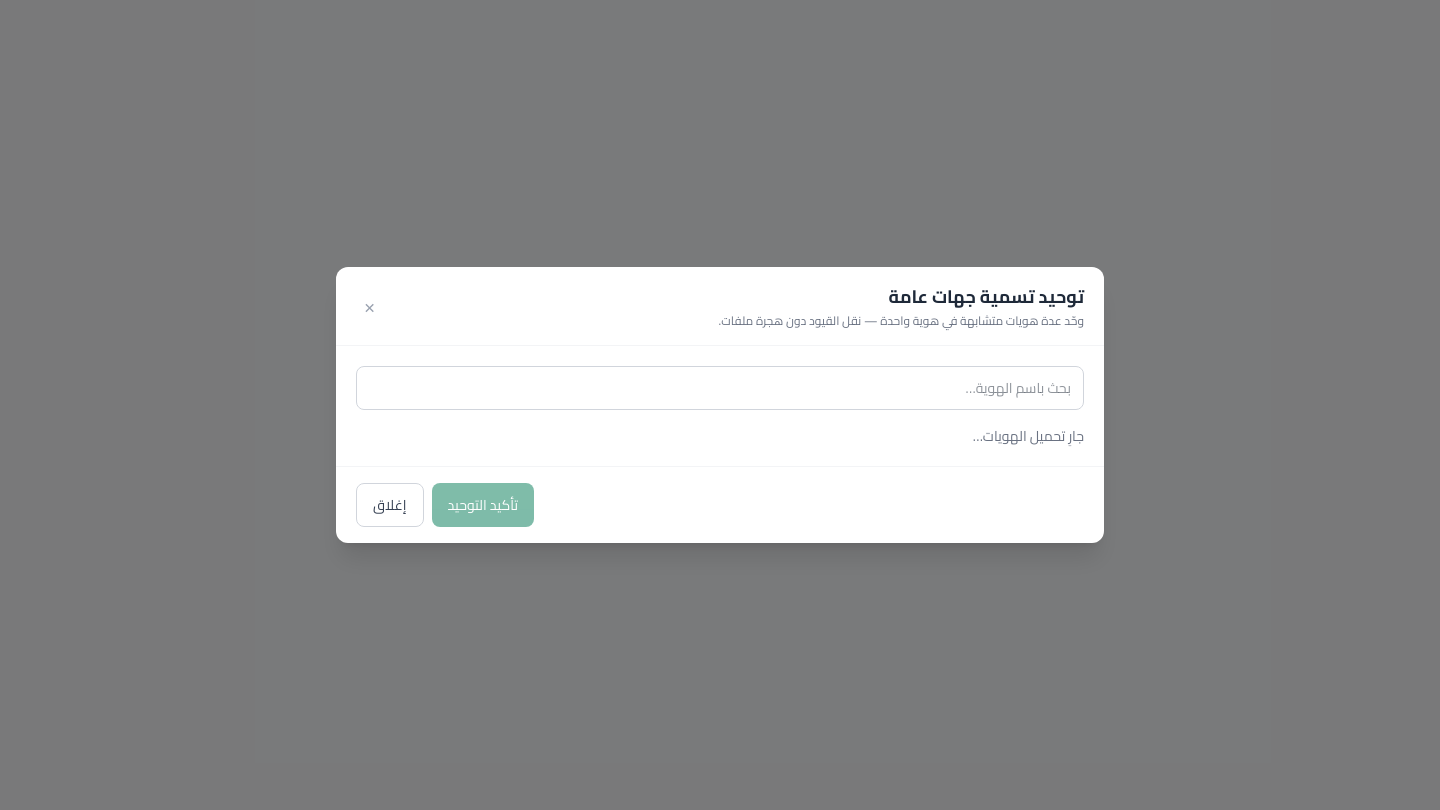
Scenario: UnifyNamesModal › يتجاهل نتيجة البحث المتأخرة ويعرض نتائج أحدث بحث فقط عند سباق الطلبات
Type "و" into the field named "بحث باسم الجهة".
click(720, 388); type("و")  # box [356,366,1084,410]
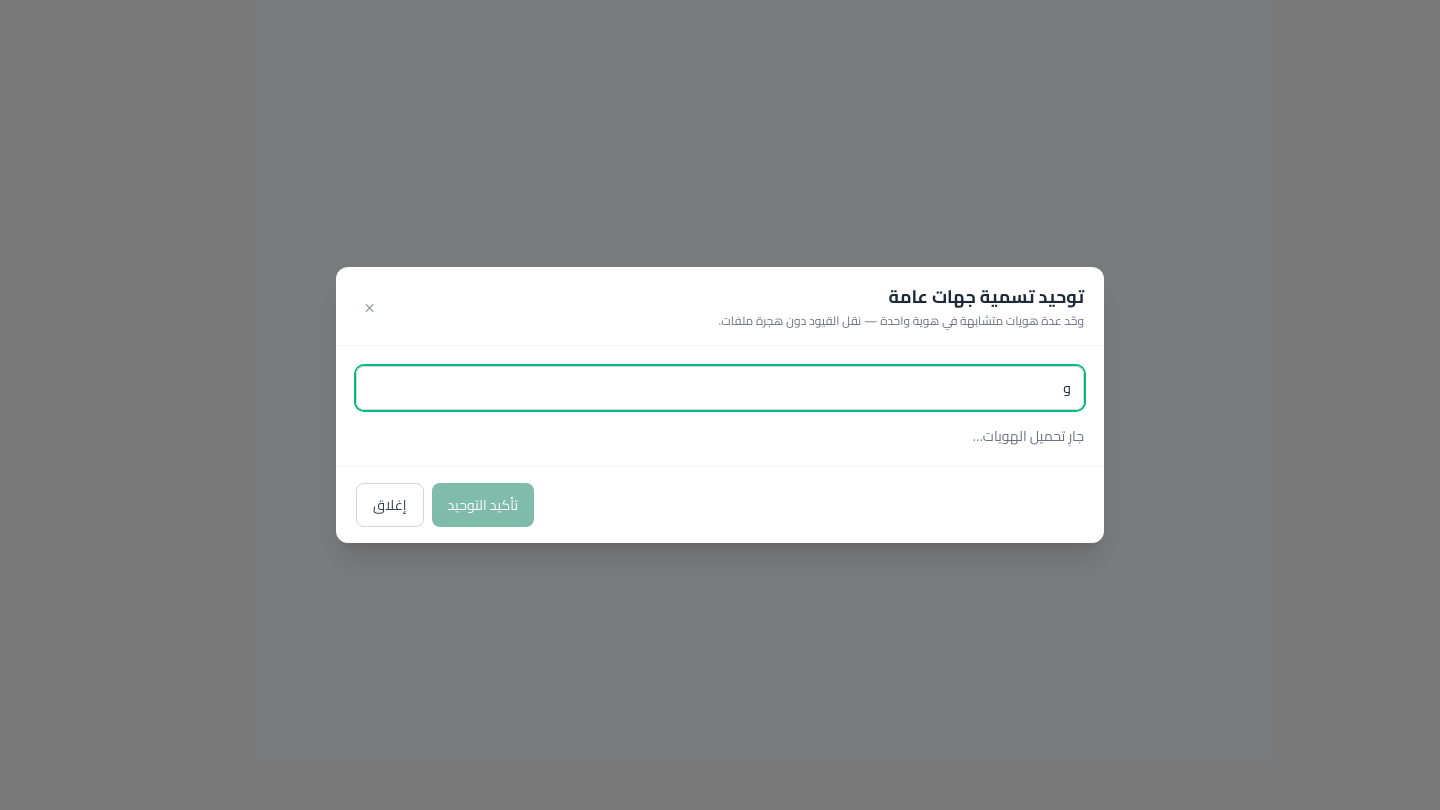
Type "ز" into the field named "بحث باسم الجهة".
click(720, 388); type("ز")  # box [356,366,1084,410]
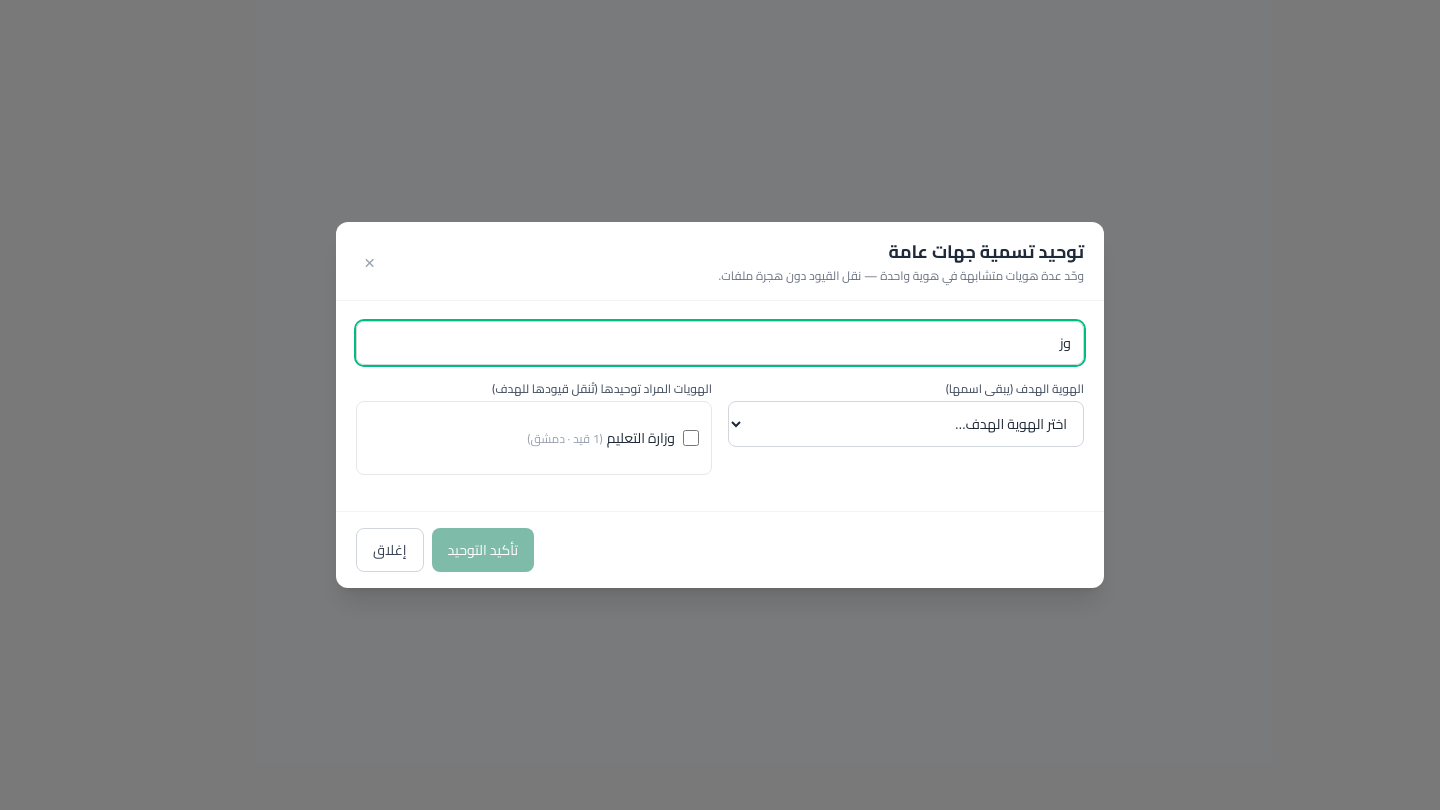
Now the text "وزارة التعليم" is shown, box [607,425,675,451]
